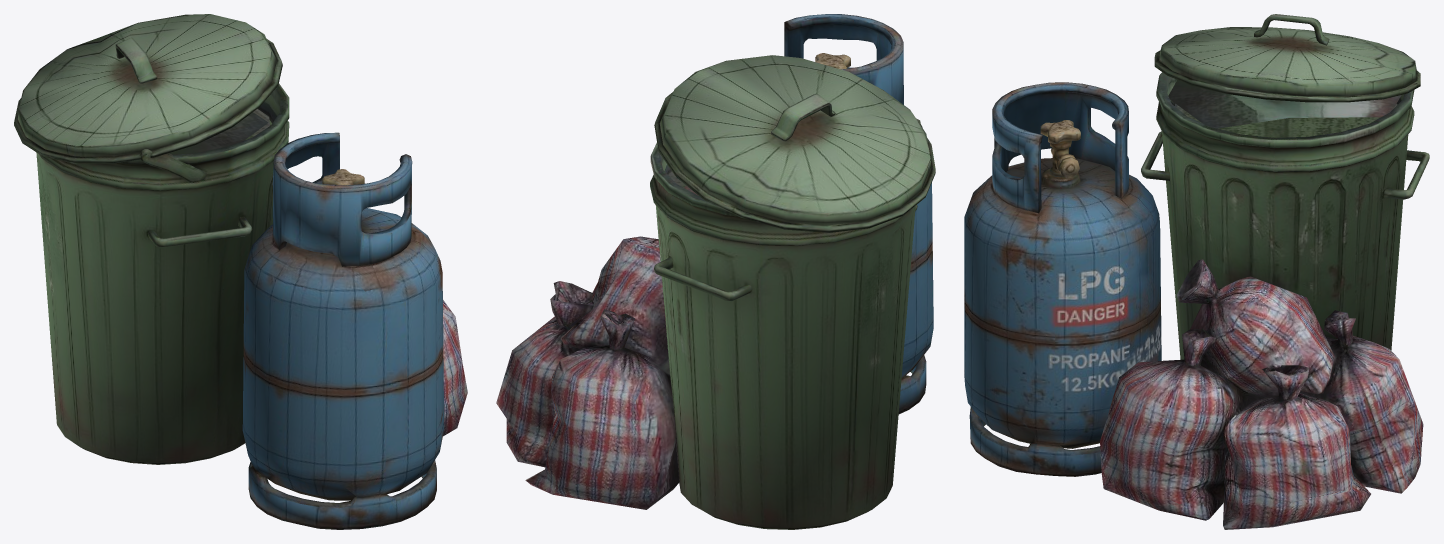
Rendered from gascan.glb.
3 renders of one model, left to right at view 1: azimuth 30°, elevation 25°; view 2: azimuth 150°, elevation 25°; view 3: azimuth 270°, elevation 25°, orthographic. The views are drawn at different scales.
Visible parts, largest first — view 1: tripo_node_7dc815b4-04ca-4205-8b01-ac2cff2321f0; view 2: tripo_node_7dc815b4-04ca-4205-8b01-ac2cff2321f0; view 3: tripo_node_7dc815b4-04ca-4205-8b01-ac2cff2321f0.
Part boxes in pixels (bbox=[...]): tripo_node_7dc815b4-04ca-4205-8b01-ac2cff2321f0: bbox=[14, 14, 467, 529]; tripo_node_7dc815b4-04ca-4205-8b01-ac2cff2321f0: bbox=[496, 14, 935, 529]; tripo_node_7dc815b4-04ca-4205-8b01-ac2cff2321f0: bbox=[964, 14, 1429, 529].
Size of the model in its own units: 0.9629 by 0.8926 by 0.998.
Materials: 1 (1 with a texture image).
